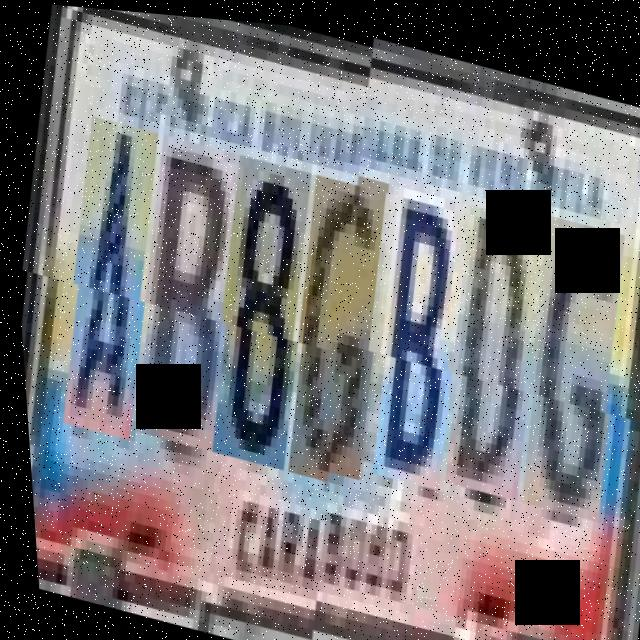8: (190, 147, 330, 470)
A: (40, 111, 178, 442)
B: (113, 129, 259, 452), (350, 186, 482, 496)
D: (422, 203, 558, 505)
G: (266, 166, 406, 489), (498, 212, 640, 525)
